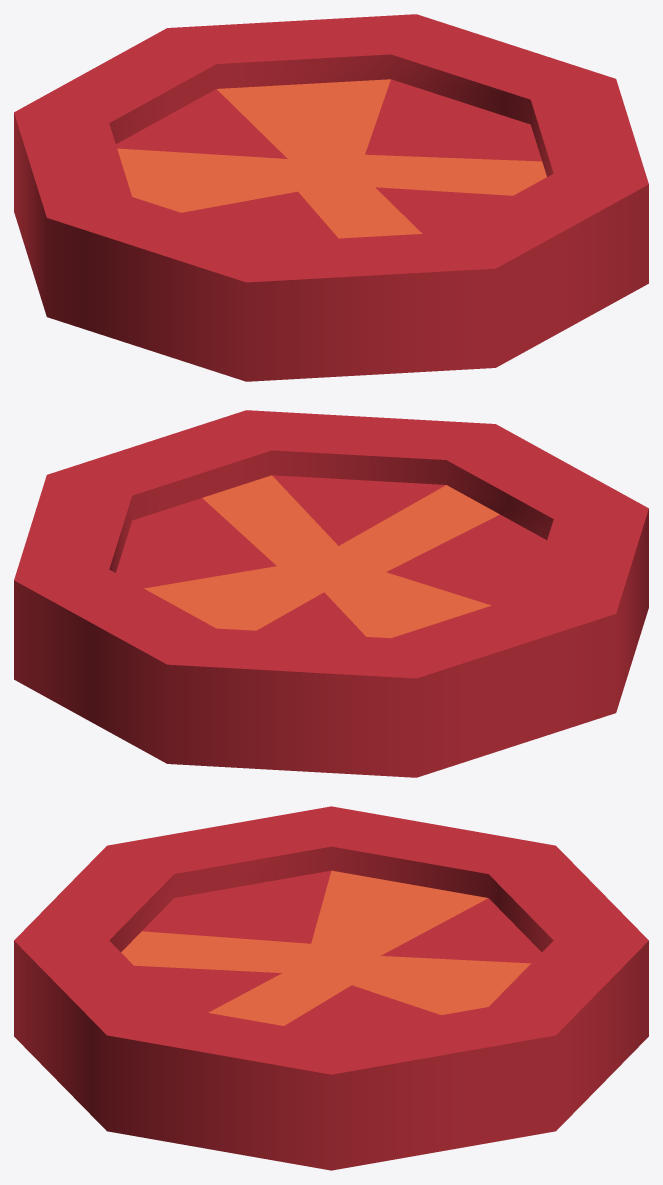
Rendered from tomaties.obj.
3 renders of one model, top to bottom at view 1: azimuth 30°, elevation 25°; view 2: azimuth 150°, elevation 25°; view 3: azimuth 270°, elevation 25°, orthographic. The views are drawn at different scales.
Visible parts, largest first — view 1: tomaties; view 2: tomaties; view 3: tomaties.
Part boxes in pixels (x1,y1,x2,y2): tomaties: (14, 14, 648, 381); tomaties: (14, 410, 648, 777); tomaties: (14, 806, 648, 1170).
Bounding box in the file's own units: 0.18 × 0.03 × 0.18.
